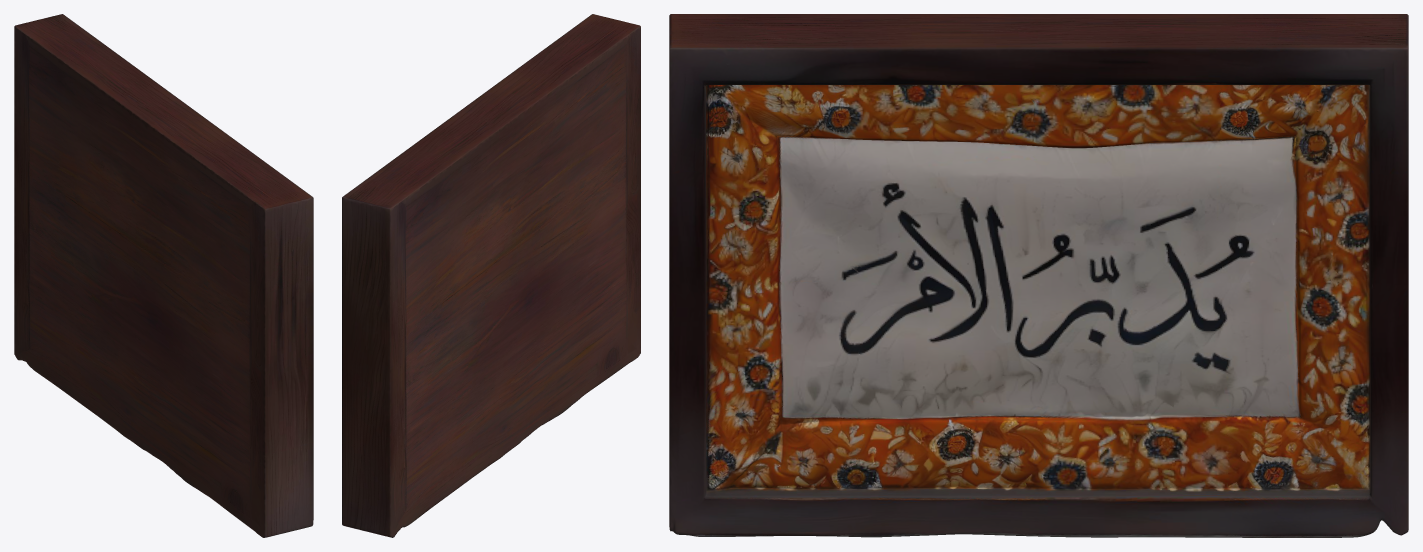
Rendered from wall_panel_3.glb.
The picture shows the model from 3 angles, left to right: view 1: azimuth 30°, elevation 25°; view 2: azimuth 150°, elevation 25°; view 3: azimuth 270°, elevation 25°; orthographic projection. The views are drawn at different scales.
Visible parts, largest first — view 1: tripo_node_69c34ab5-5a5a-4e1a-b5aa-0734b97dc543; view 2: tripo_node_69c34ab5-5a5a-4e1a-b5aa-0734b97dc543; view 3: tripo_node_69c34ab5-5a5a-4e1a-b5aa-0734b97dc543.
Boxes of the visible parts, <box> form: tripo_node_69c34ab5-5a5a-4e1a-b5aa-0734b97dc543: <box>14,14,313,537</box>; tripo_node_69c34ab5-5a5a-4e1a-b5aa-0734b97dc543: <box>342,14,640,537</box>; tripo_node_69c34ab5-5a5a-4e1a-b5aa-0734b97dc543: <box>669,14,1408,537</box>.
Bounding box in the file's own units: 0.1132 × 0.7322 × 1.
1 material, 1 textured.
